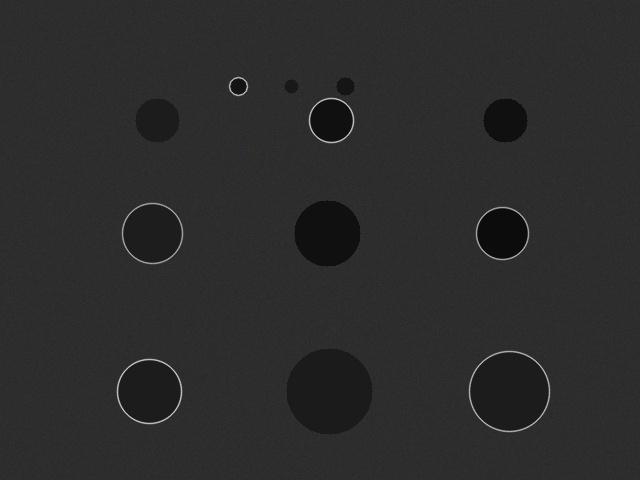hole: (286, 348, 372, 434), (469, 351, 549, 431), (294, 200, 360, 266), (117, 359, 181, 423), (122, 203, 182, 263), (476, 207, 528, 259), (135, 98, 179, 142), (309, 98, 353, 142), (483, 98, 527, 142), (229, 77, 247, 95), (336, 77, 354, 95), (284, 79, 298, 93)
